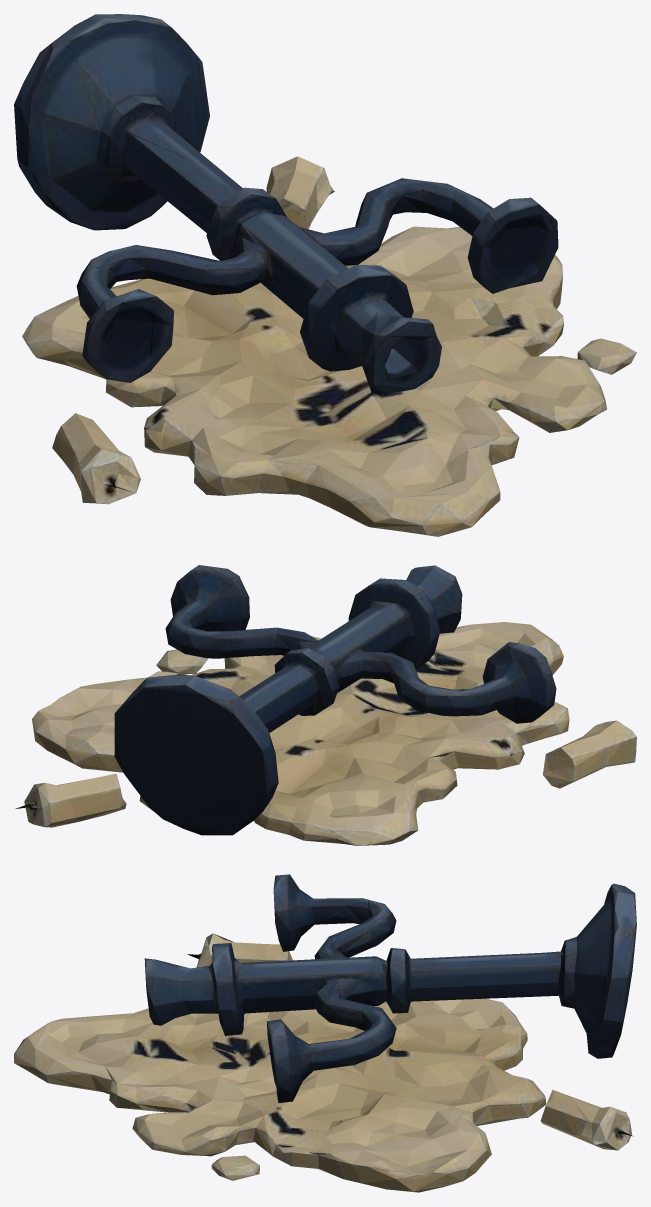
Rendered from fallen_candelabrum.glb.
3 views of the same model, one above another, from view 1: azimuth 30°, elevation 25°; view 2: azimuth 150°, elevation 25°; view 3: azimuth 270°, elevation 25° (orthographic). The views are drawn at different scales.
Visible parts, largest first — view 1: tripo_node_e08b12a5-a3b5-4efc-90ec-837c4b511b87.001; view 2: tripo_node_e08b12a5-a3b5-4efc-90ec-837c4b511b87.001; view 3: tripo_node_e08b12a5-a3b5-4efc-90ec-837c4b511b87.001.
Part boxes in pixels (x1,y1,x2,y2): tripo_node_e08b12a5-a3b5-4efc-90ec-837c4b511b87.001: (14,14,636,536); tripo_node_e08b12a5-a3b5-4efc-90ec-837c4b511b87.001: (15,565,636,845); tripo_node_e08b12a5-a3b5-4efc-90ec-837c4b511b87.001: (14,874,636,1192).
Bounding box in the file's own units: 0.8543 × 0.3125 × 0.9765.
Materials: 1 (1 with a texture image).
